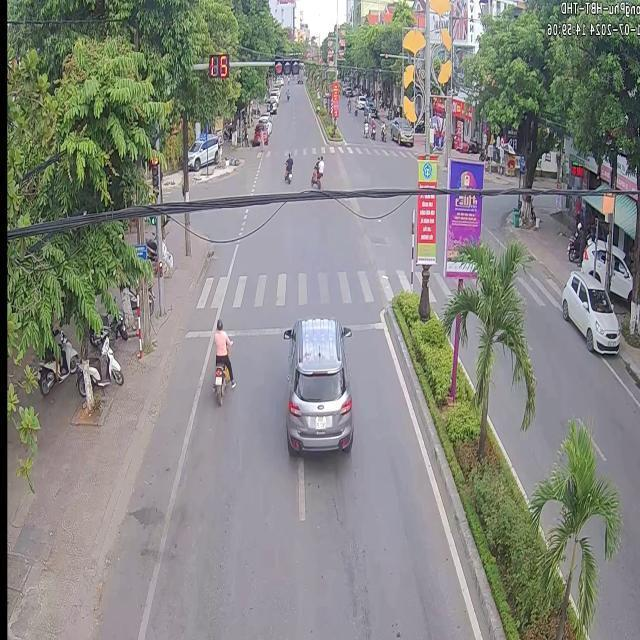car: (282, 316, 352, 454), (559, 269, 618, 351)
motobike: (212, 358, 227, 405)
red_light: (274, 56, 300, 77), (206, 57, 228, 77), (151, 154, 159, 194)
stop_line: (225, 326, 284, 336), (344, 321, 380, 329), (187, 329, 210, 336)
